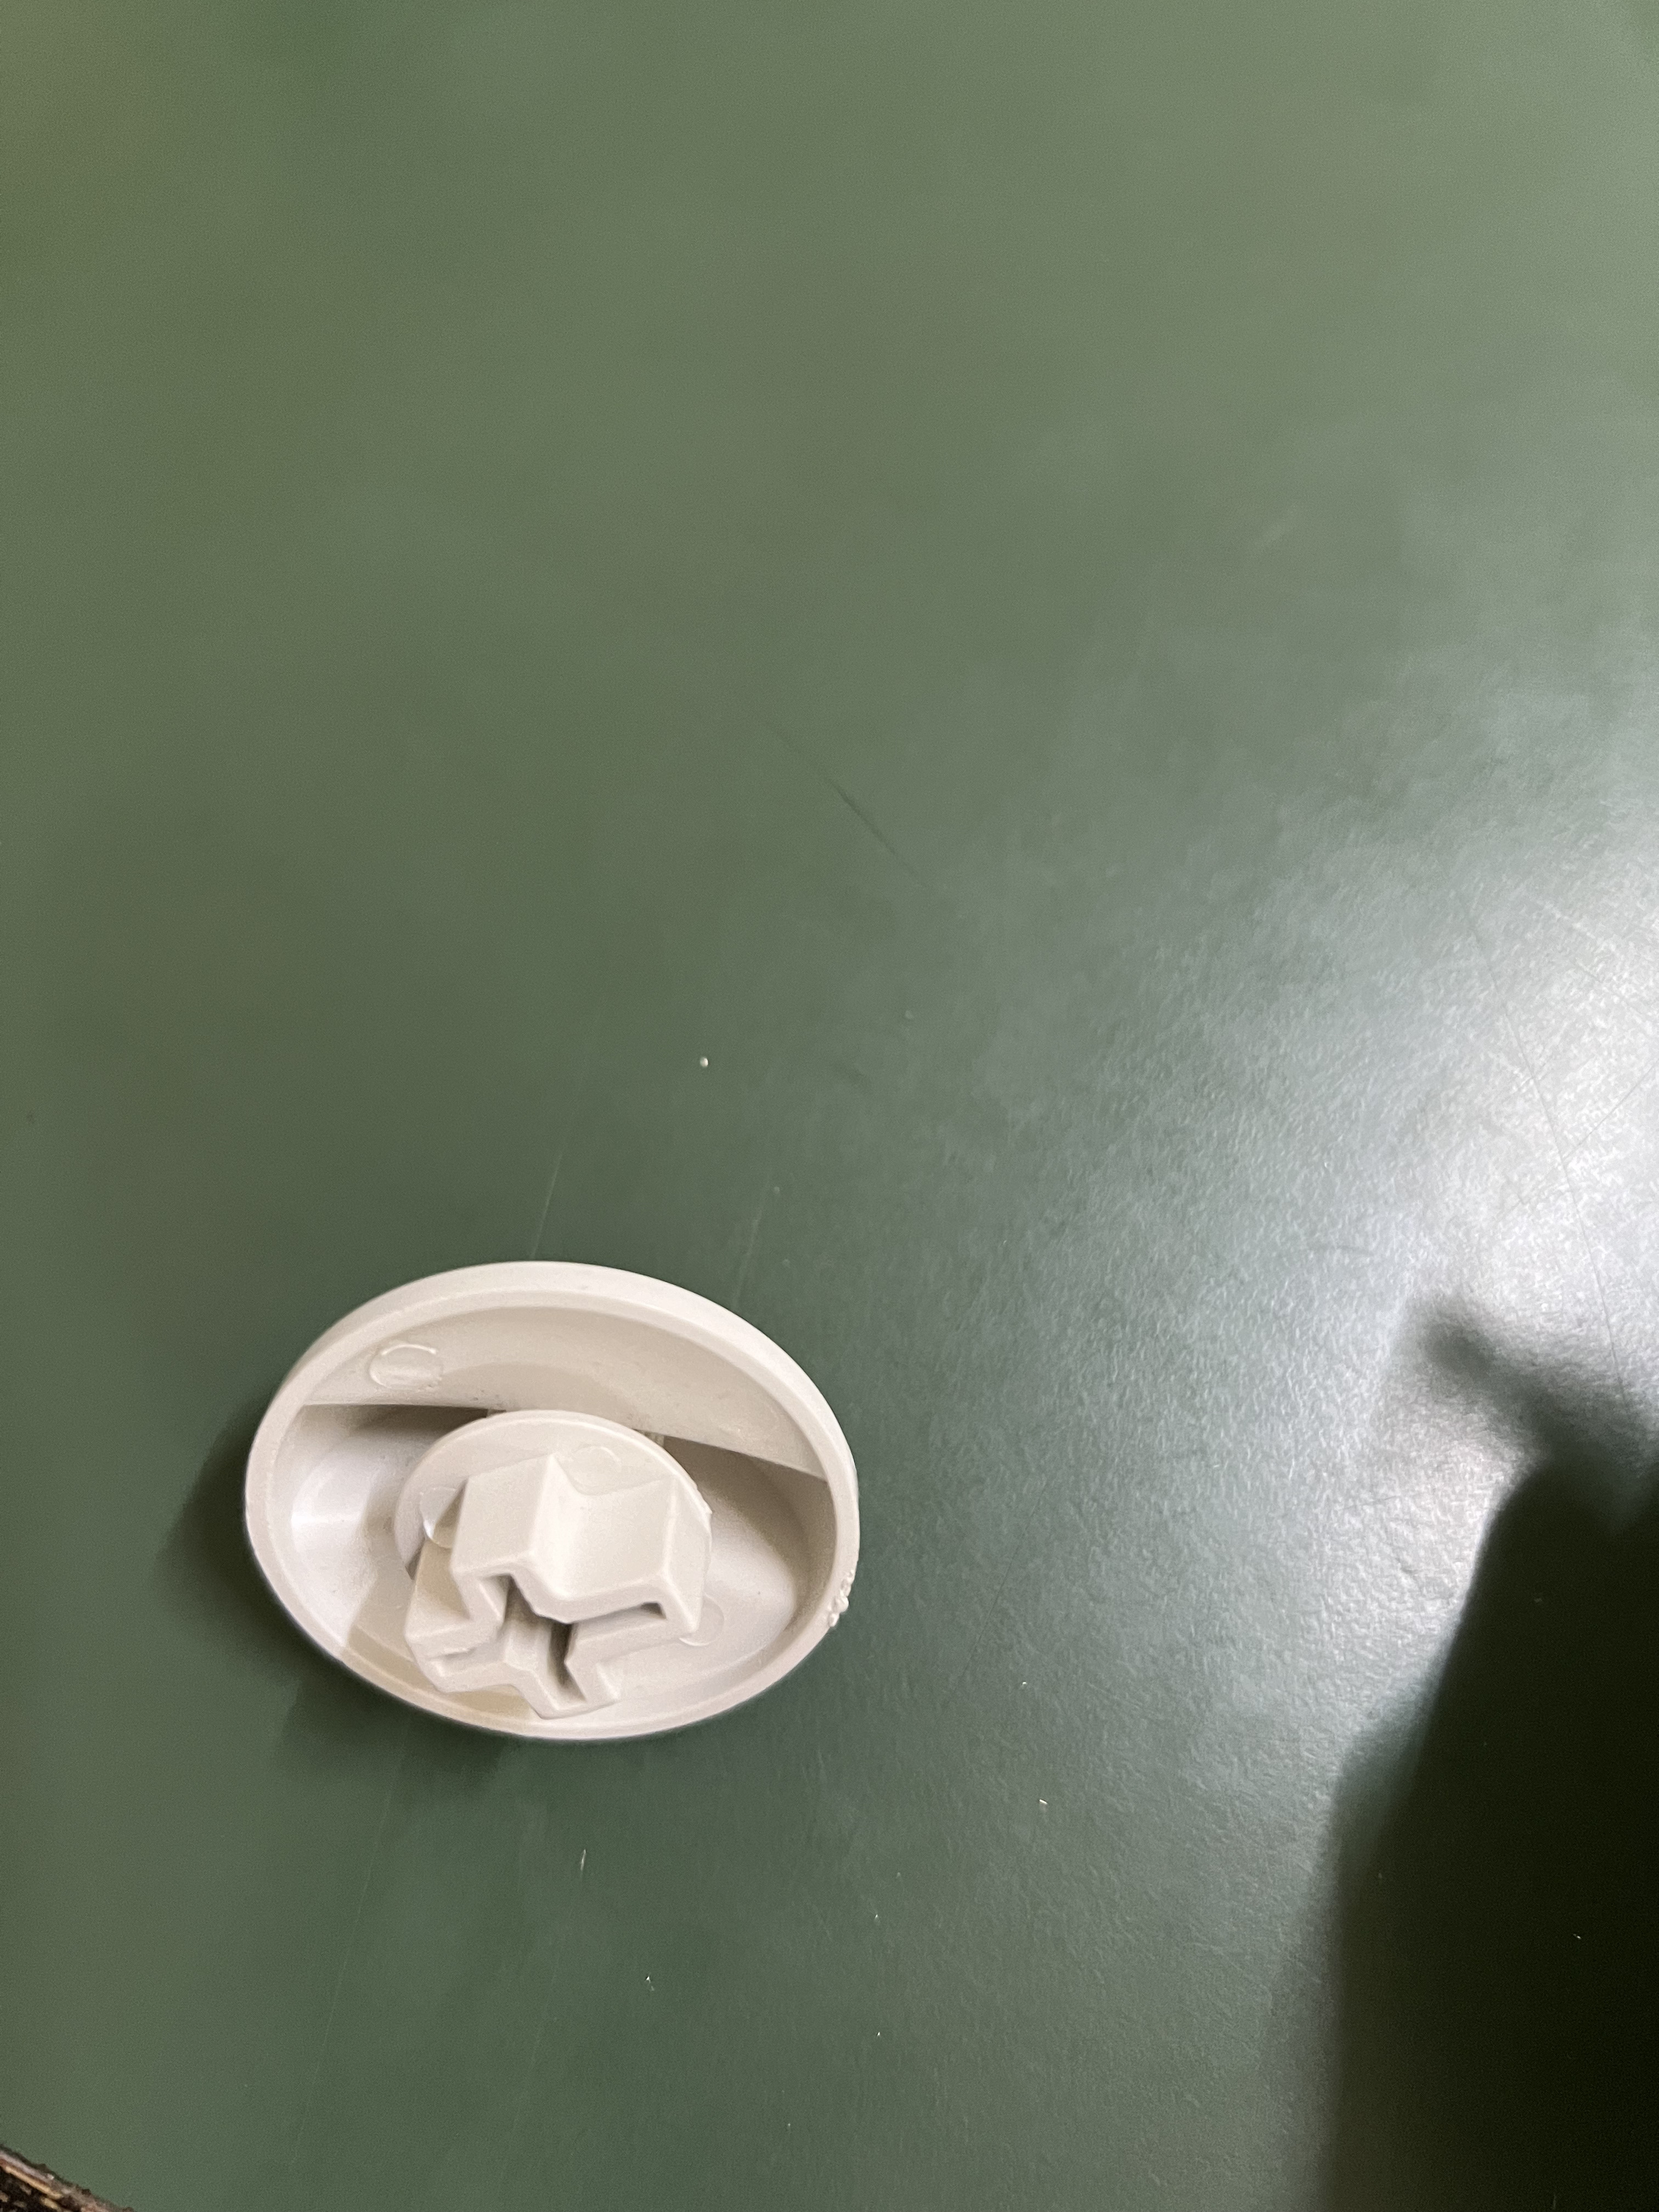regulator: (226, 1257, 879, 1741)
